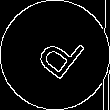P_SW: (25, 23, 85, 87)
